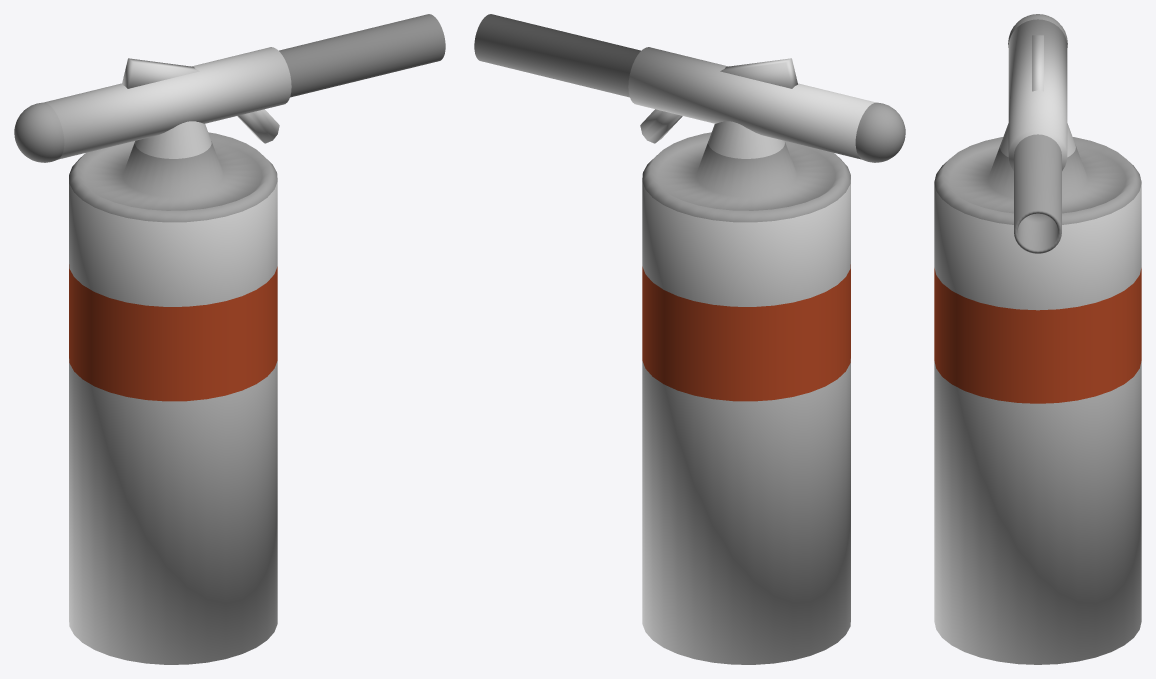
File: Heat-Gun.fbx
3 views of the same model, side by side, from view 1: azimuth 30°, elevation 25°; view 2: azimuth 150°, elevation 25°; view 3: azimuth 270°, elevation 25° (orthographic).
Visible parts, largest first — view 1: Heat-Gun; view 2: Heat-Gun; view 3: Heat-Gun.
Boxes of the visible parts, x1,y1,x2,y2 form: Heat-Gun: (14, 14, 445, 664); Heat-Gun: (474, 14, 905, 664); Heat-Gun: (934, 14, 1141, 664).
Size of the model in its own units: 161 by 211 by 70.23.
